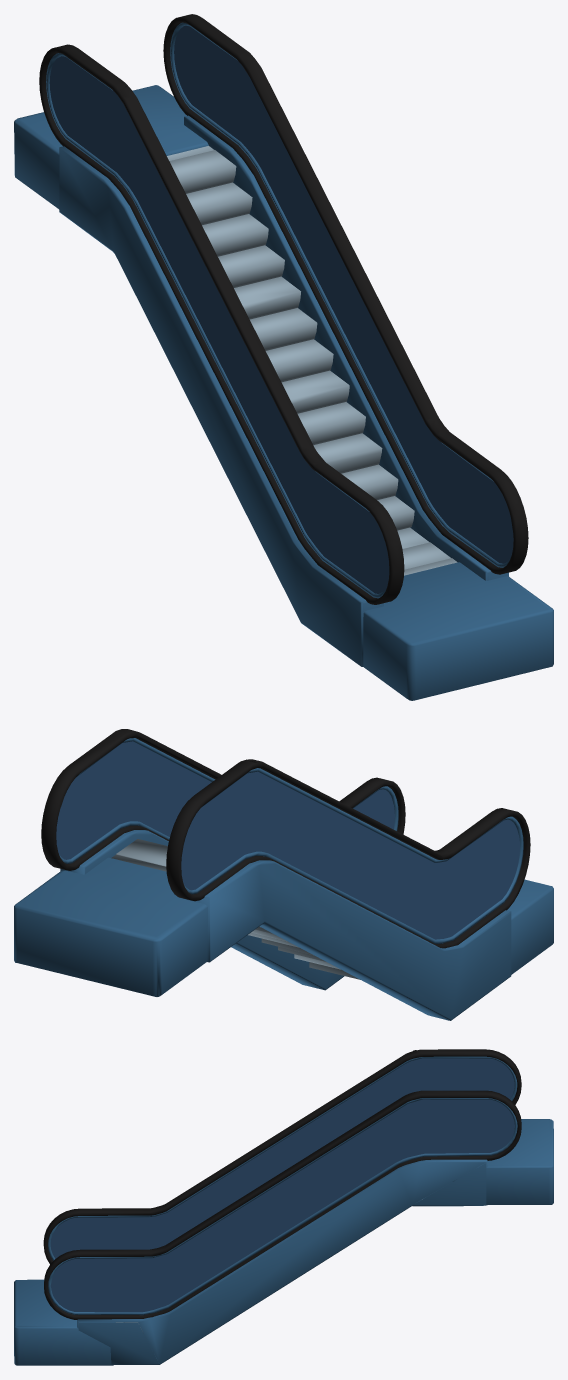
Rendered from escalator.zfix-v14.lod0.glb.
3 renders of one model, top to bottom at view 1: azimuth 30°, elevation 25°; view 2: azimuth 150°, elevation 25°; view 3: azimuth 270°, elevation 25°, orthographic. The views are drawn at different scales.
Visible parts, largest first — view 1: Object_31, Object_10, Object_49; view 2: Object_10, Object_31, Object_49; view 3: Object_31, Object_10, Object_49.
Part boxes in pixels (x1,y1,x2,y2): Object_31: (49,25,513,593); Object_10: (14,22,553,700); Object_49: (39,14,528,604); Object_10: (14,738,553,1020); Object_31: (56,741,519,979); Object_49: (41,729,530,948); Object_31: (50,1058,514,1331); Object_10: (14,1056,553,1365); Object_49: (43,1049,521,1319).
Size of the model in its own units: 2.85 by 7.2 by 13.02.
